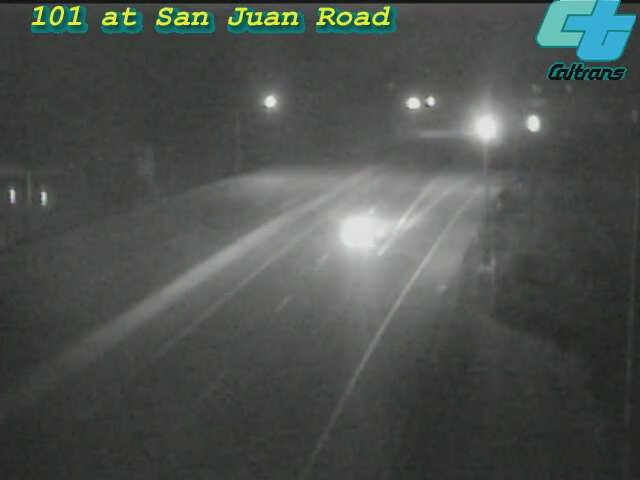vehicle: (321, 187, 401, 267), (455, 104, 505, 154), (506, 99, 556, 149)
